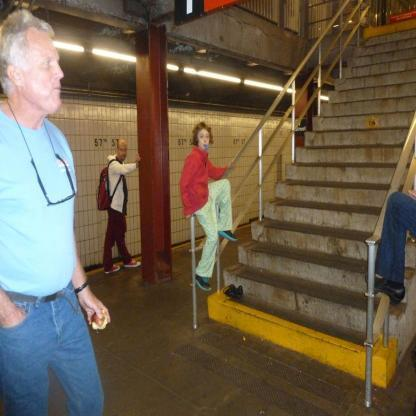person: (0, 4, 110, 416), (177, 120, 242, 292), (93, 132, 146, 276)
stair: (269, 25, 416, 352)
